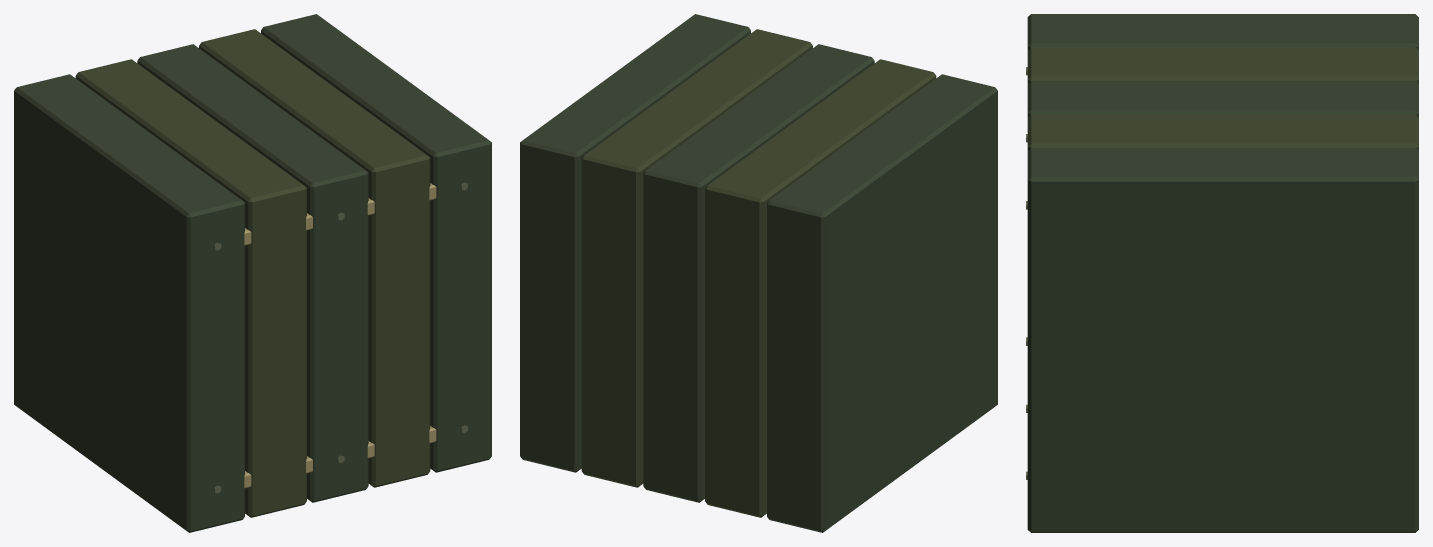
Rendered from woodStructure.obj.
3 views of the same model, side by side, from view 1: azimuth 30°, elevation 25°; view 2: azimuth 150°, elevation 25°; view 3: azimuth 270°, elevation 25° (orthographic). The views are drawn at different scales.
Visible parts, largest first — view 1: woodStructure; view 2: woodStructure; view 3: woodStructure.
Part boxes in pixels (x1,y1,x2,y2): woodStructure: (14, 14, 491, 532); woodStructure: (520, 14, 997, 532); woodStructure: (1026, 14, 1418, 532).
Bounding box in the file's own units: 1 × 1 × 1.
Materials: 1 (1 with a texture image).
